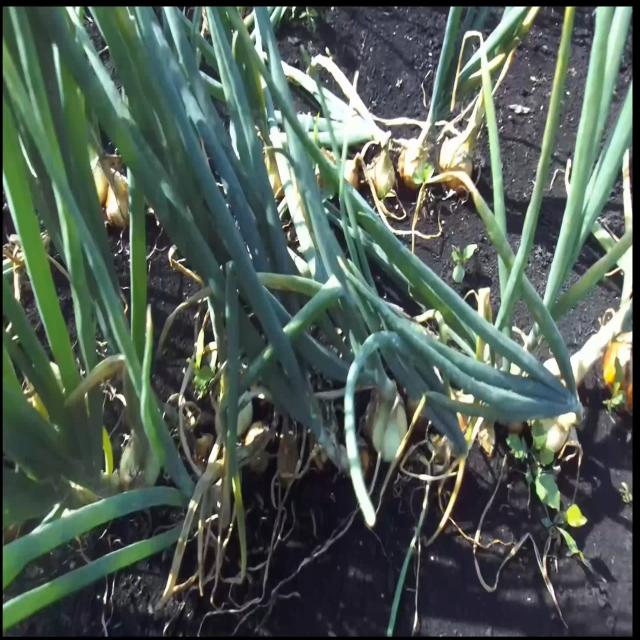onion: (368, 384, 408, 456), (121, 430, 161, 490), (440, 137, 475, 194), (102, 170, 132, 230), (246, 417, 274, 473), (401, 136, 430, 190), (370, 146, 396, 198), (343, 157, 360, 195)
